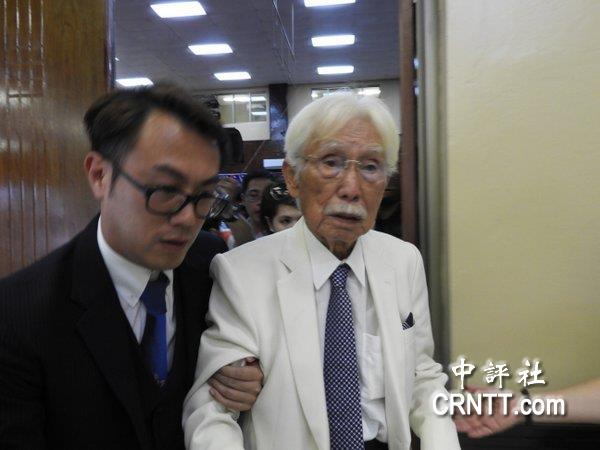other: (176, 82, 511, 445)
